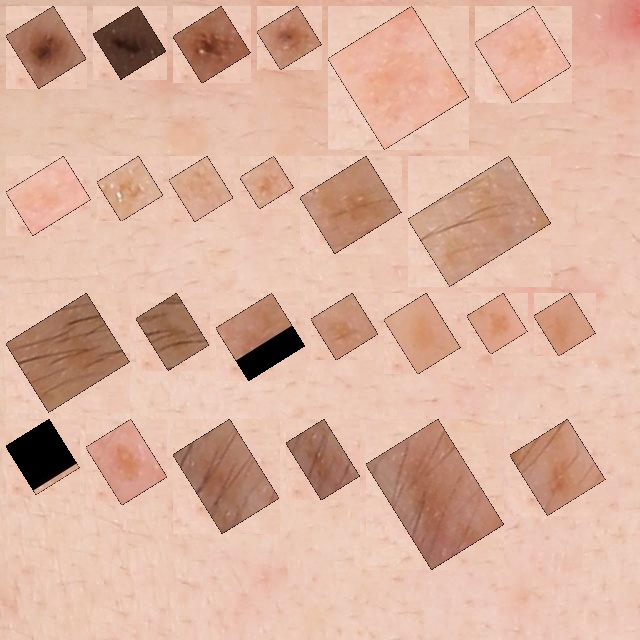melasma: (377, 430, 493, 558), (339, 17, 458, 138), (419, 167, 540, 275), (17, 304, 118, 401), (184, 430, 268, 522), (311, 167, 390, 242), (486, 17, 560, 92), (521, 430, 594, 504), (227, 304, 294, 370), (97, 430, 156, 494), (17, 167, 80, 224), (395, 304, 449, 363), (297, 430, 349, 489), (147, 304, 198, 359), (17, 430, 68, 483), (322, 304, 367, 349), (108, 167, 152, 210), (180, 167, 222, 210), (545, 304, 584, 345), (478, 304, 516, 343), (251, 167, 283, 198)
nevus: (17, 17, 75, 77), (184, 17, 239, 72), (104, 17, 155, 68), (268, 17, 311, 59)
